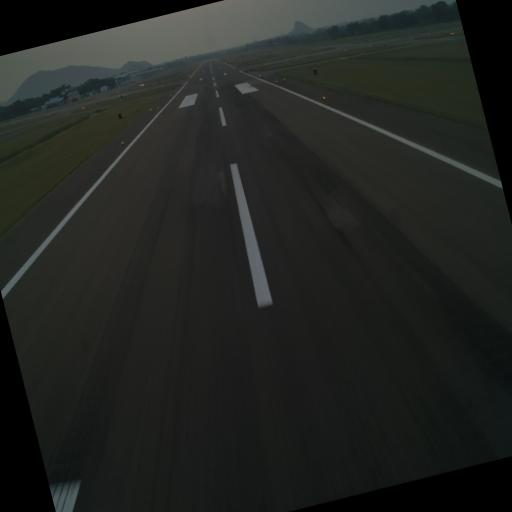on: (322, 94, 328, 104), (120, 138, 126, 146)
